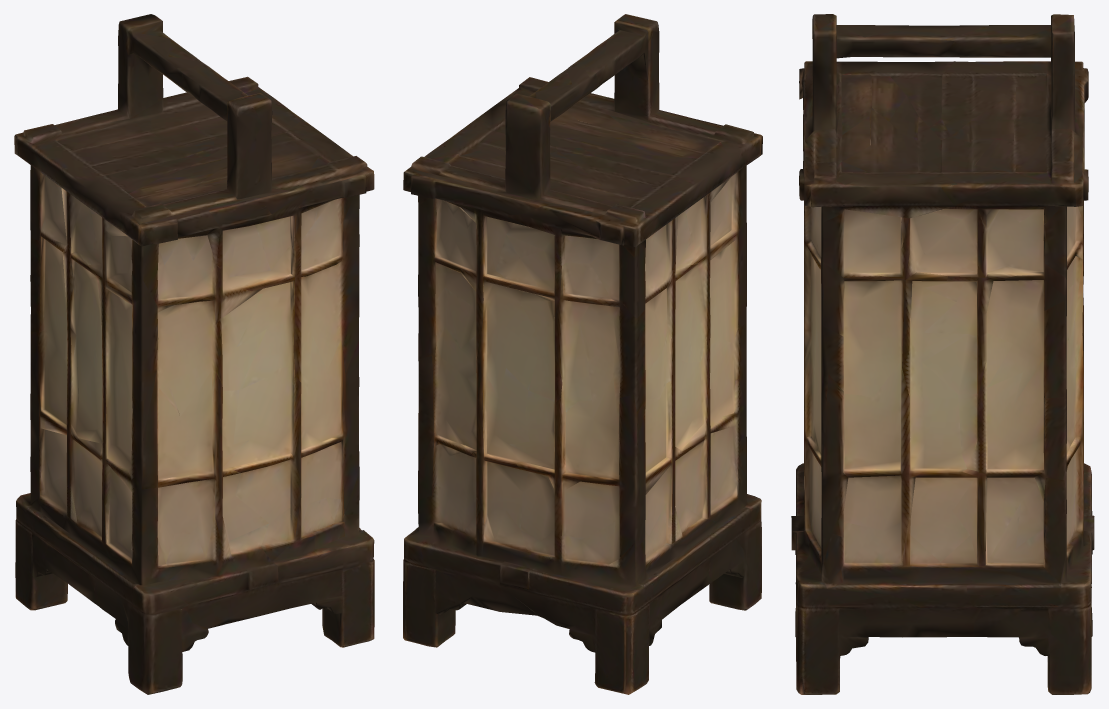
File: andon.glb
3 views of the same model, side by side, from view 1: azimuth 30°, elevation 25°; view 2: azimuth 150°, elevation 25°; view 3: azimuth 270°, elevation 25° (orthographic). The views are drawn at different scales.
Visible parts, largest first — view 1: tripo_node_92411875-a677-48ba-a792-353546ef2796; view 2: tripo_node_92411875-a677-48ba-a792-353546ef2796; view 3: tripo_node_92411875-a677-48ba-a792-353546ef2796.
Boxes of the visible parts, <box> form: tripo_node_92411875-a677-48ba-a792-353546ef2796: <box>14,14,374,694</box>; tripo_node_92411875-a677-48ba-a792-353546ef2796: <box>403,14,762,694</box>; tripo_node_92411875-a677-48ba-a792-353546ef2796: <box>791,14,1094,694</box>.
Size of the model in its own units: 0.4391 by 1 by 0.449.
Materials: 1 (1 with a texture image).
